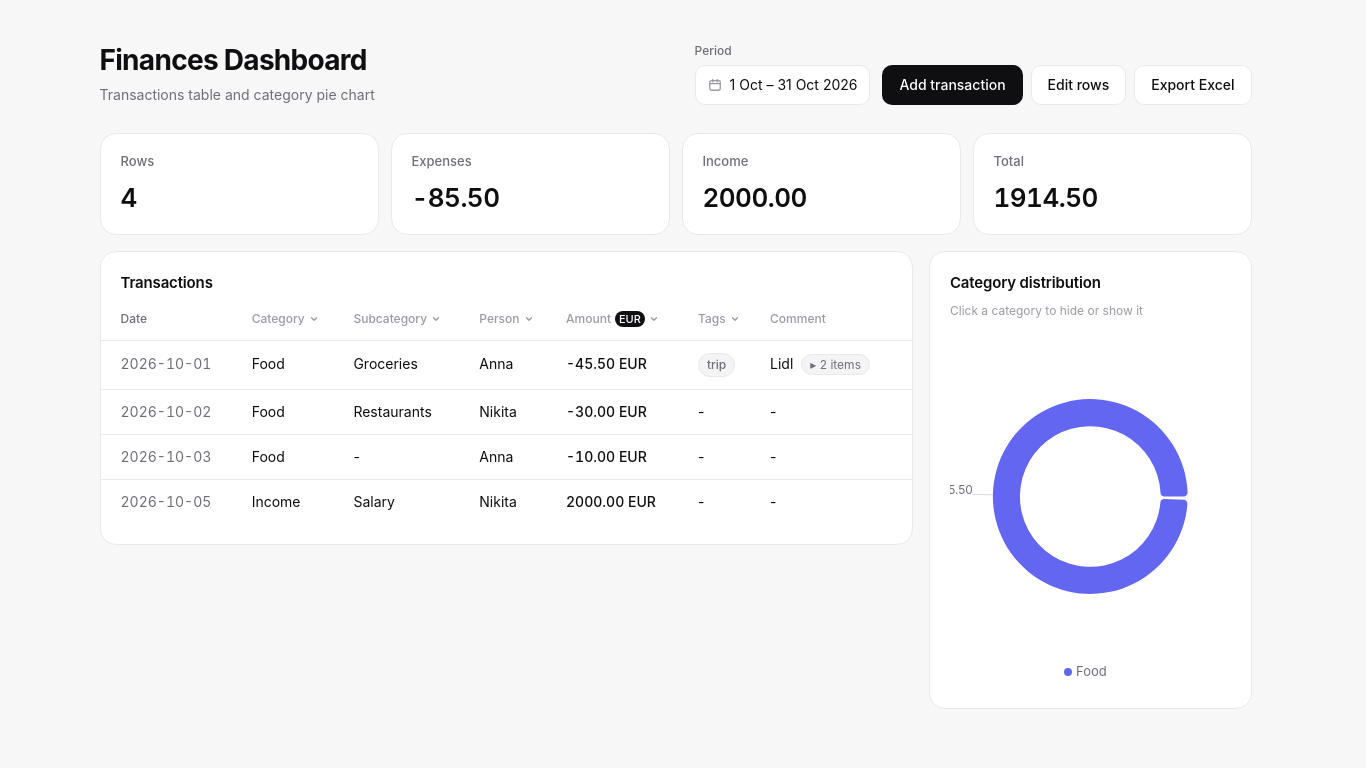
Test case: currency filter › in All mode shows every row in EUR, keeps the original under it and leaves rows without a rate out of the totals
Expected: the button "Export Excel" is enabled, x1=1134 y1=65 x2=1252 y2=105
What coordinates should you click on to do the following:
click the button "Amount EUR"
I would click on:
 (612, 319)
Its box is x1=562 y1=308 x2=663 y2=330.
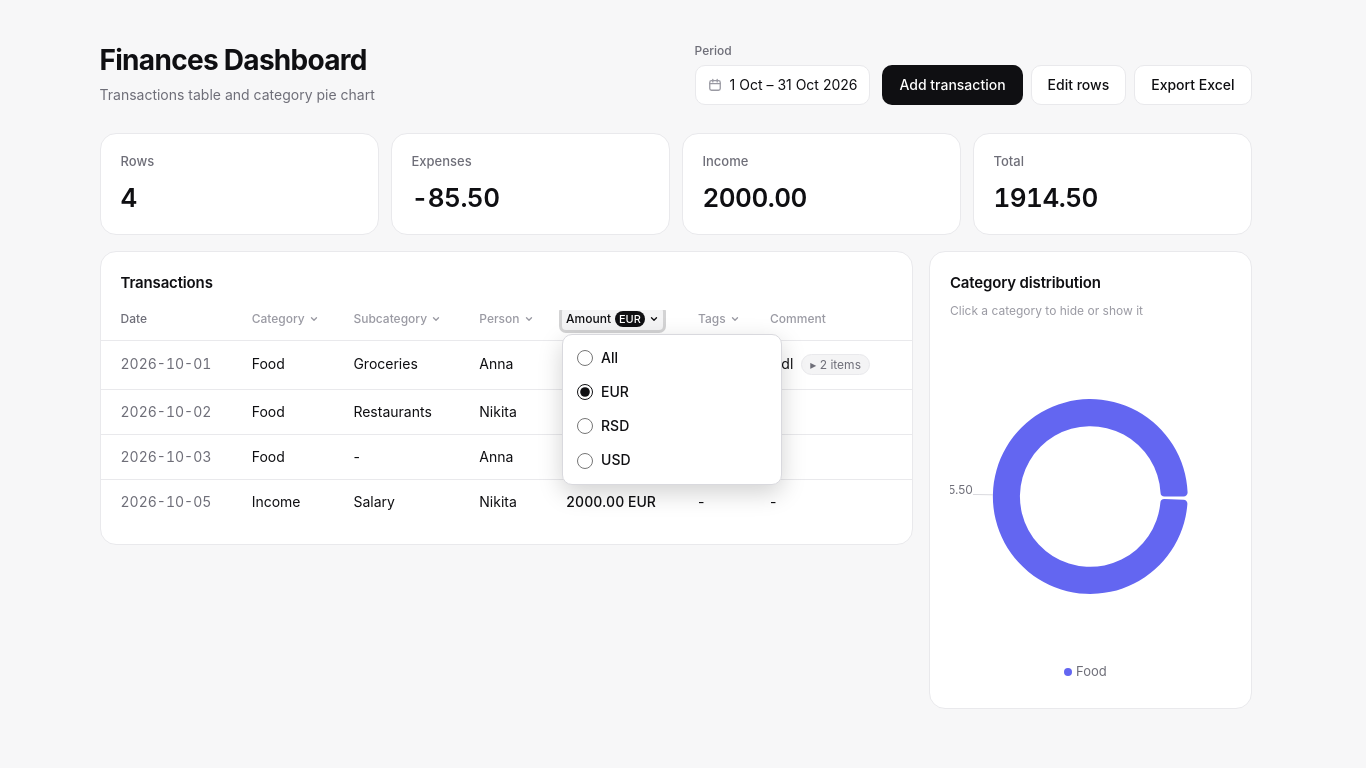
What coordinates should you click on to do the following:
click the radio button labelled "All"
I would click on:
 (585, 358)
Its box is x1=577 y1=350 x2=593 y2=366.
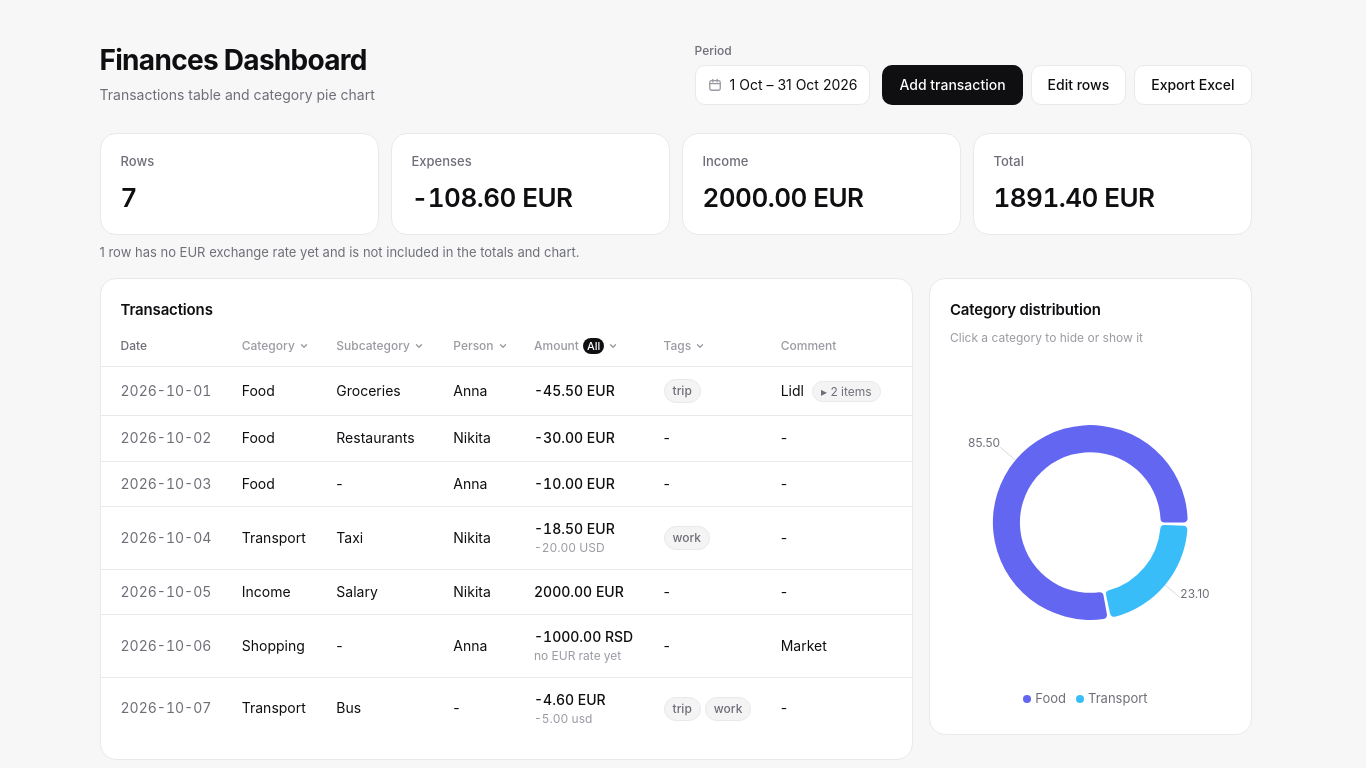
Expected: the text "-108.60 EUR" is shown, x1=412 y1=182 x2=572 y2=213
Expected: the text "2000.00 EUR" is shown, x1=702 y1=182 x2=864 y2=213
Expected: the text "1891.40 EUR" is shown, x1=994 y1=182 x2=1154 y2=213
